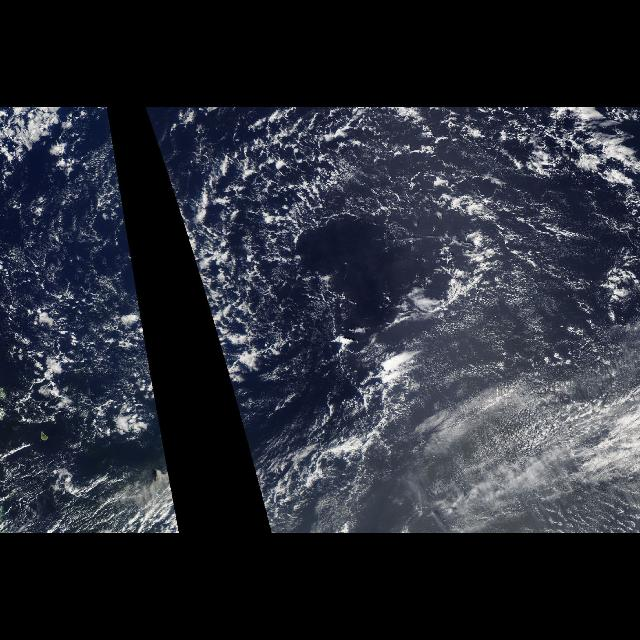Gravel: (145, 108, 638, 530), (2, 108, 180, 530)
Sugar: (396, 354, 640, 534)
